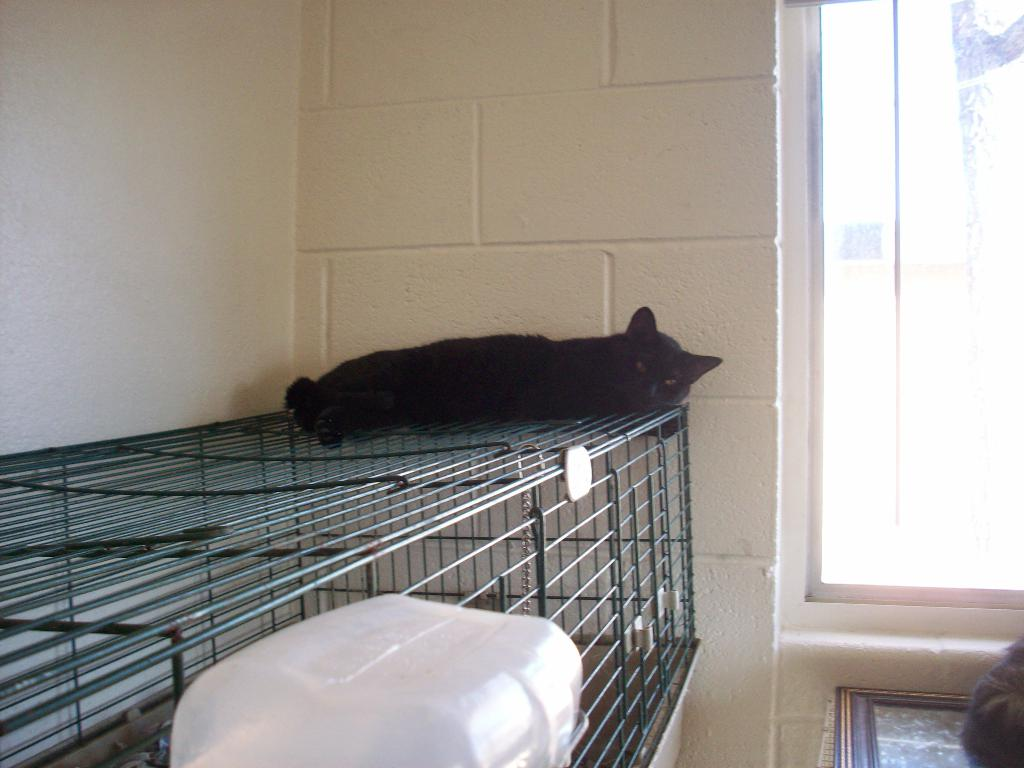Animal: (280, 303, 725, 421)
